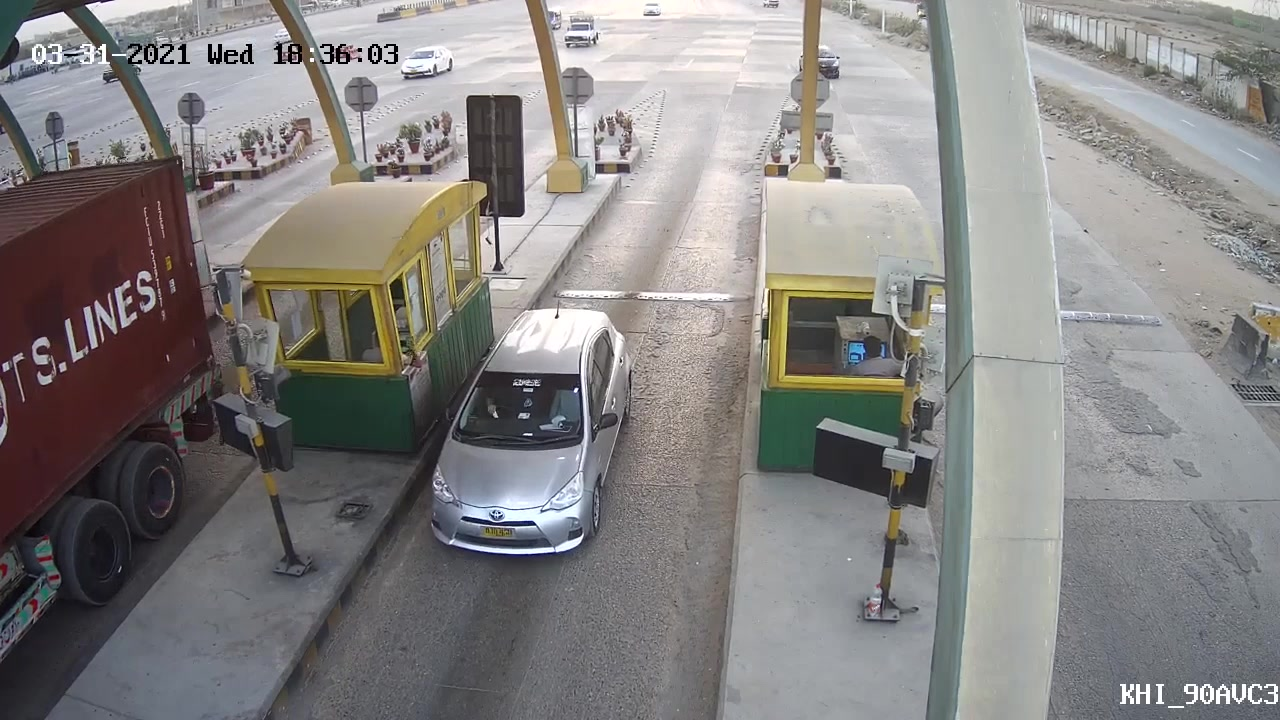F1: (425, 291, 635, 560)
